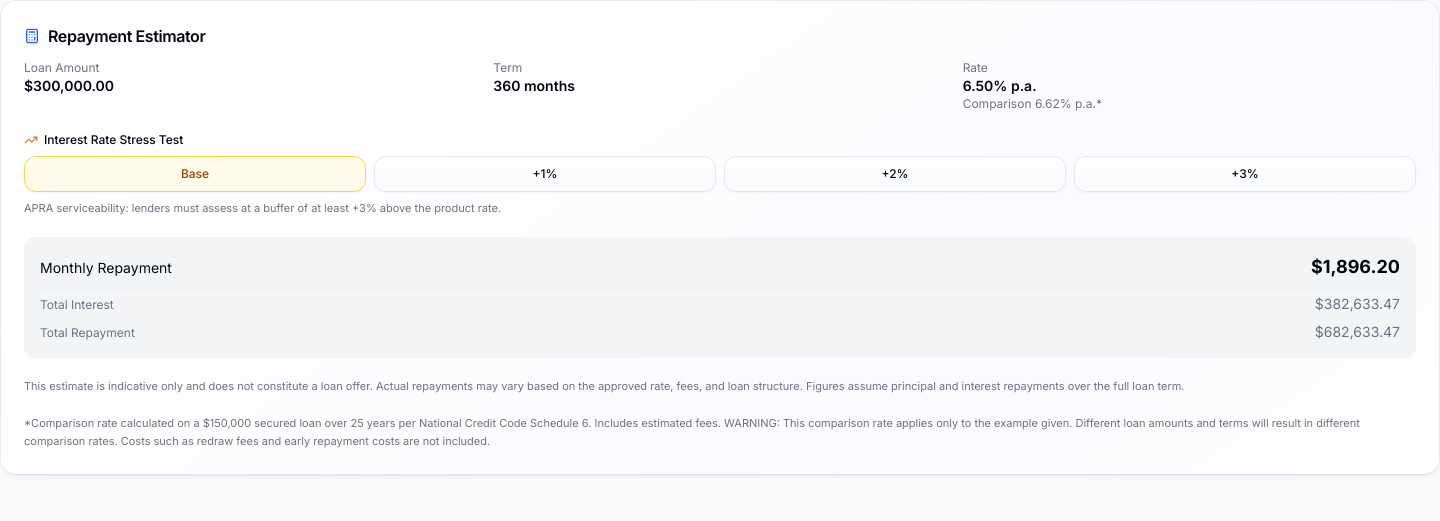
Test: RepaymentCalculator › updates rate when stress test button clicked
The image size is (1440, 521).
Click the button "+3%".
click(1245, 174)  # box top-left (1074, 156), bottom-right (1416, 192)
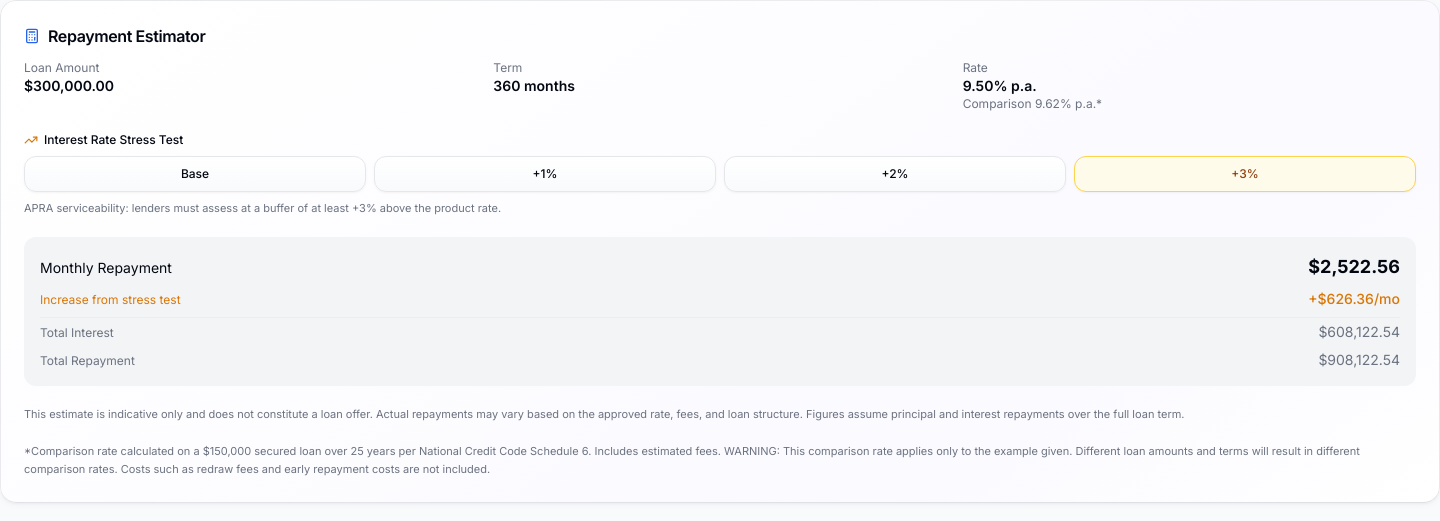
Check: the text "9.50% p.a." is shown, box top-left (963, 77), bottom-right (1037, 94)
